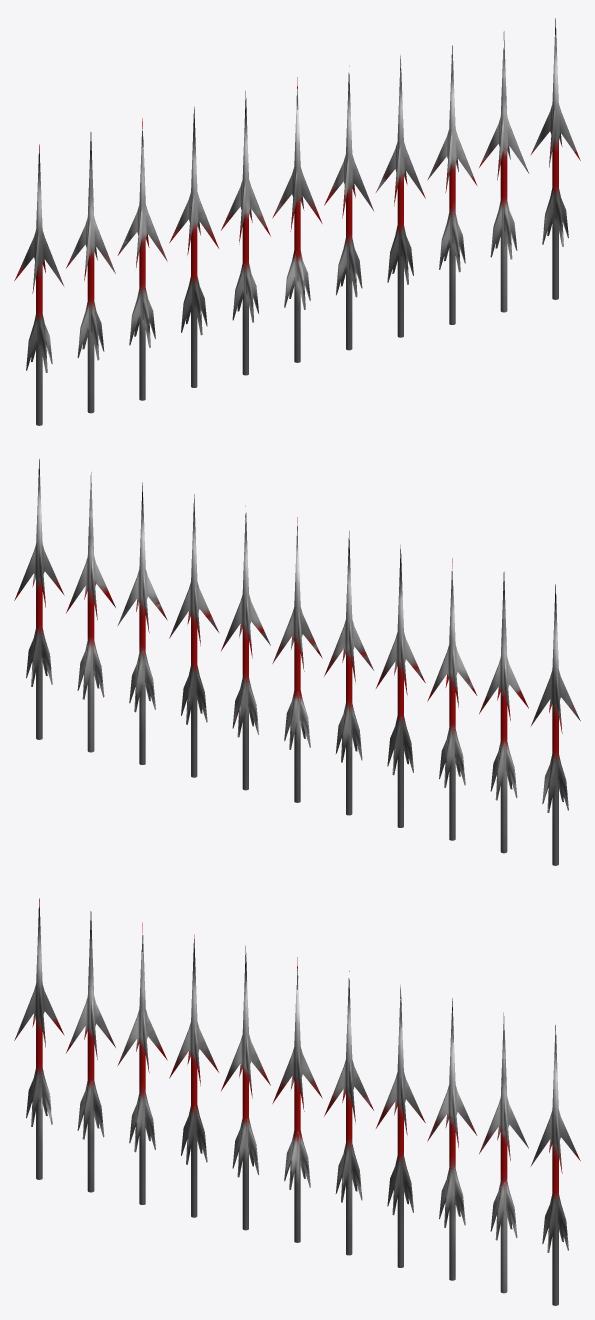
File: spikes.fbx
The picture shows the model from 3 angles, top to bottom: view 1: azimuth 30°, elevation 25°; view 2: azimuth 150°, elevation 25°; view 3: azimuth 330°, elevation 25°; orthographic projection.
Parts seen in each view (by area): view 1: polySurface14; view 2: polySurface14; view 3: polySurface14.
Part boxes in pixels (x1,y1,x2,y2): polySurface14: [14, 18, 580, 425]; polySurface14: [14, 459, 580, 865]; polySurface14: [14, 898, 580, 1305].
Bounding box in the file's own units: 21.25 × 10.53 × 1.25.
